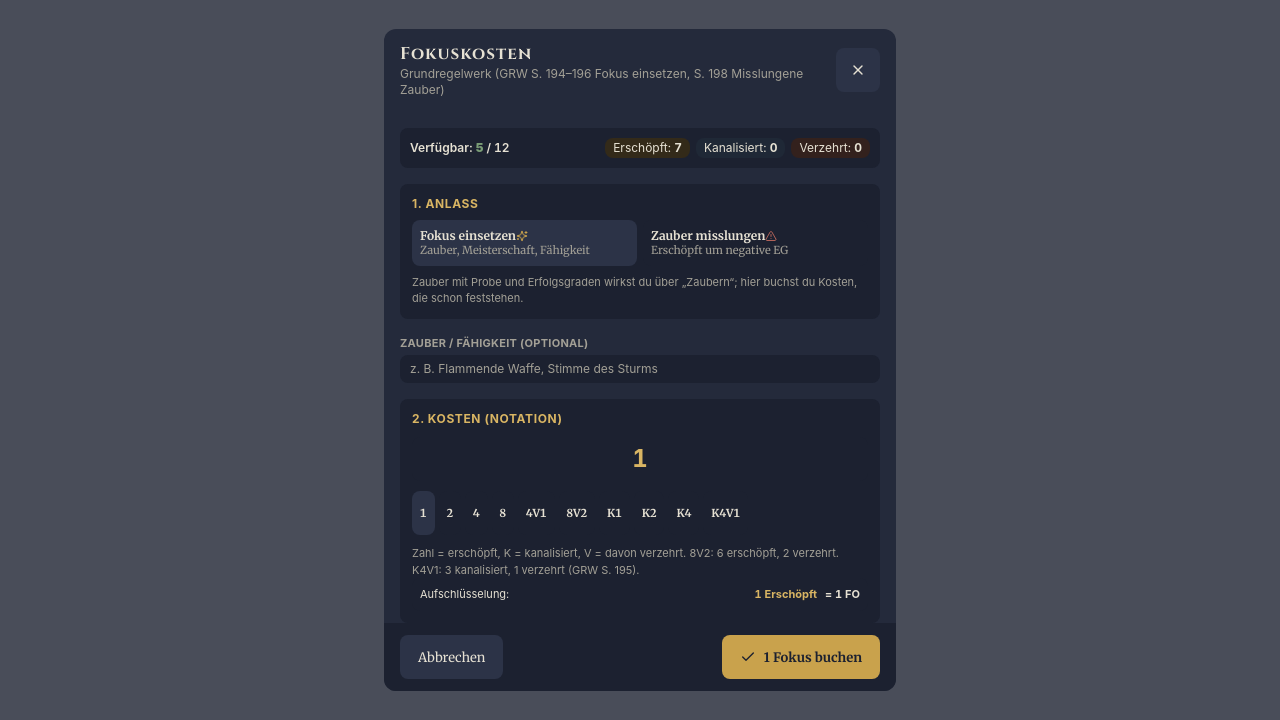
Scenario: Fokuskosten (GRW S. 194–196, 198) › 8V2: 6 erschöpft, 2 verzehrt; zu wenig Fokus sperrt ohne Hausregeln
Replace the text in the field with test id "fokuskosten-notation" with "8V2": (640, 459) [412,437,868,481]
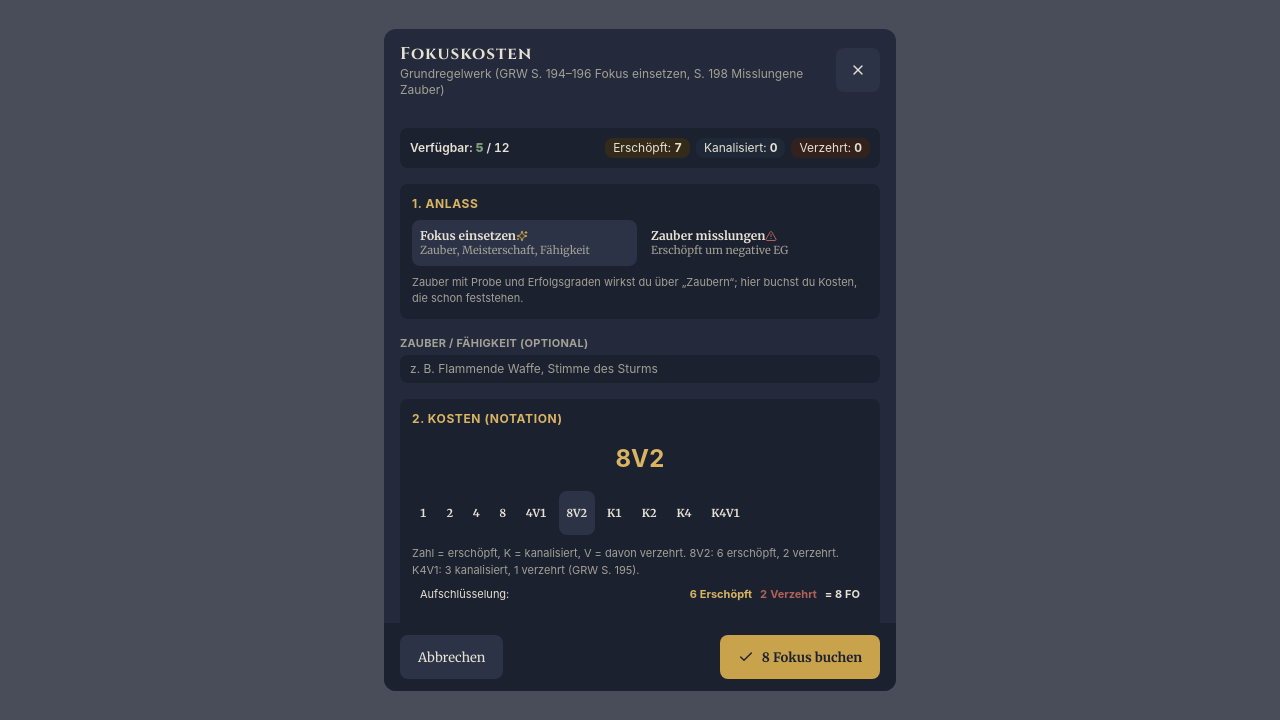
expect the button "8 Fokus buchen" is disabled: met, box [720,635,880,679]
